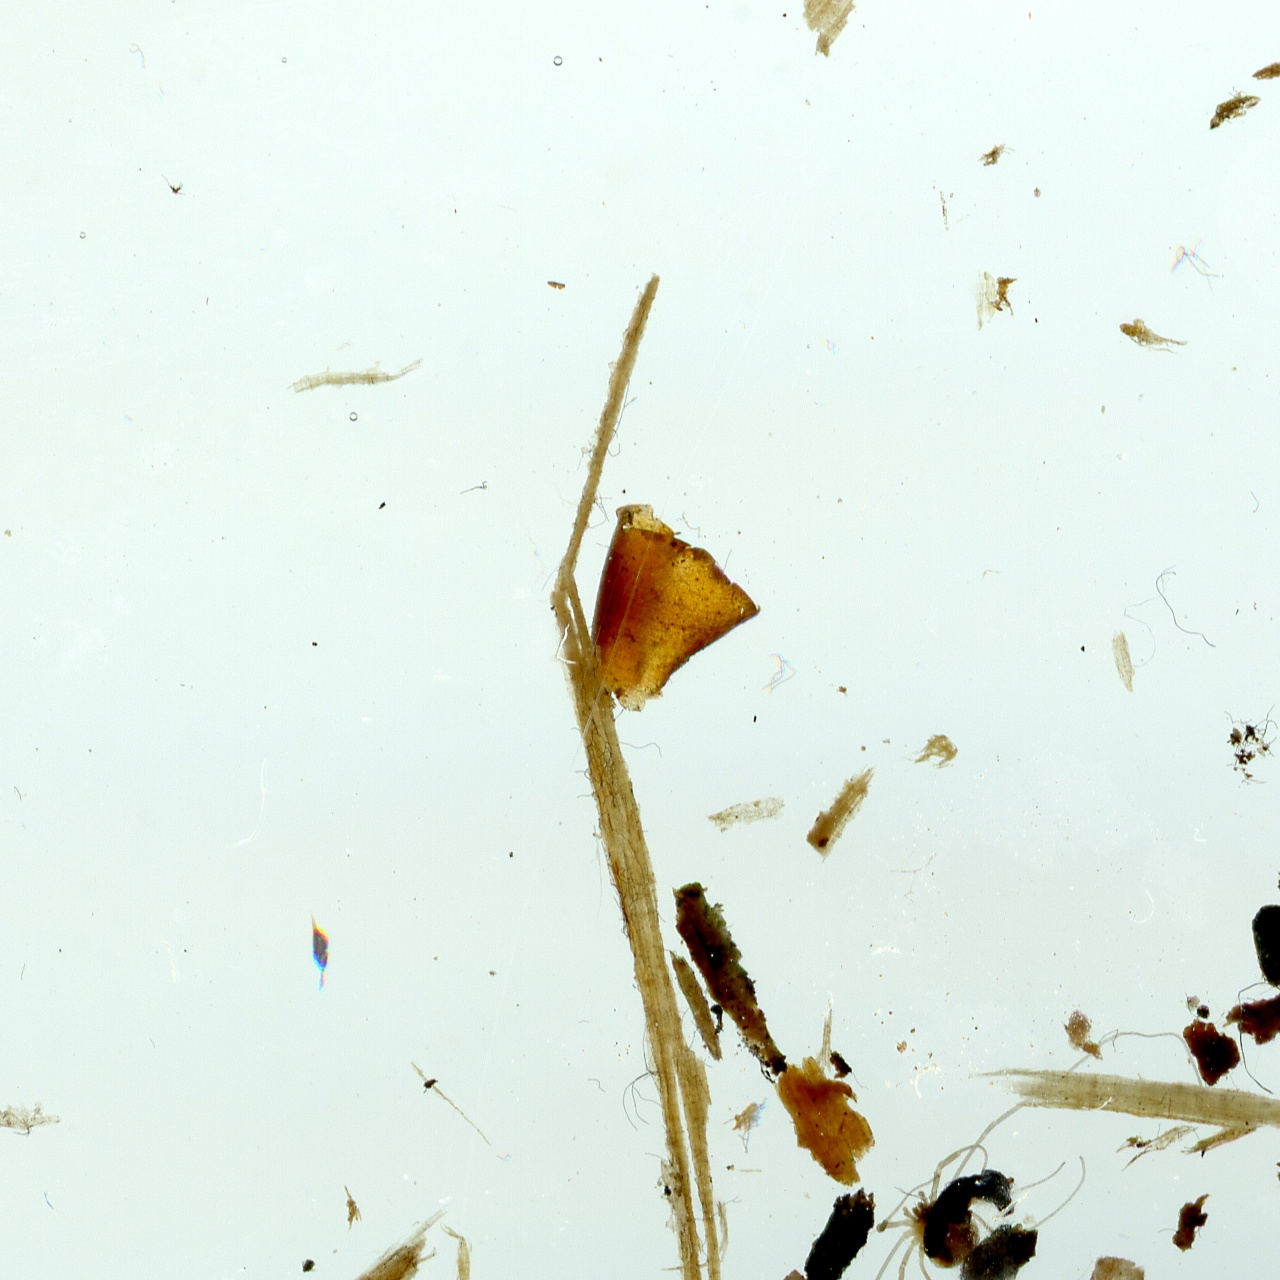arthropod: (734, 948, 1259, 1280), (305, 901, 332, 996)
